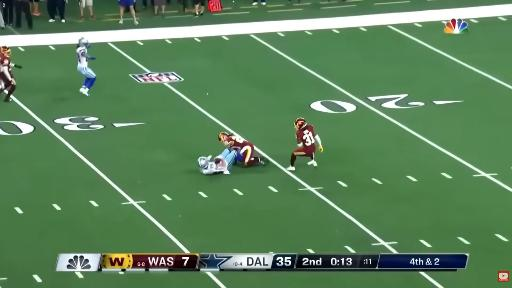Helmet: (295, 118, 306, 129), (198, 157, 208, 168), (0, 46, 10, 56), (219, 132, 229, 141), (79, 38, 88, 46)
Jersey: (226, 136, 254, 164), (296, 125, 315, 151), (200, 157, 229, 174), (226, 136, 252, 151), (0, 54, 13, 84), (77, 47, 87, 67)
Player: (287, 118, 323, 170), (219, 132, 265, 166), (0, 47, 21, 102), (77, 38, 96, 95), (198, 149, 237, 174)
